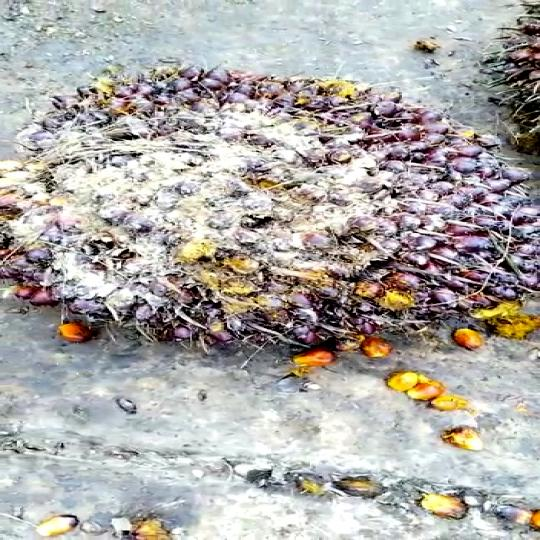kurang masak: (0, 47, 540, 374)
